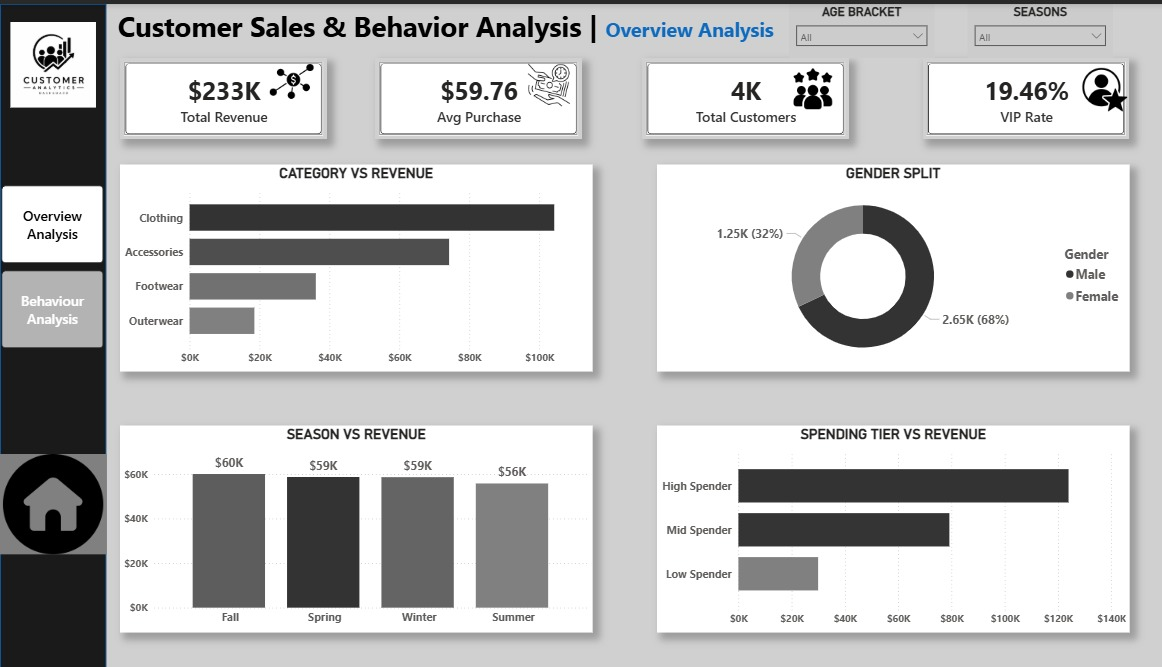

This screenshot's page, from the dashboard's own definition file:
{"tool":"powerbi","page":{"name":"OVERVIEW ANALYSIS","canvas":[1576,900],"ordinal":0},"visuals":[{"type":"shape","box":[0,0,144,900],"z":0},{"type":"textbox","box":[144,0,926,74],"z":1000},{"type":"cardVisual","fields":{"Data":["Sales Table.Total Revenue"]},"box":[162,74,280,110],"z":2000},{"type":"cardVisual","fields":{"Data":["Sales Table.Avg Purchase"]},"box":[508,74,280,110],"z":3000},{"type":"cardVisual","fields":{"Data":["Sales Table.Total Customers"]},"box":[870,74,280,110],"z":4000},{"type":"cardVisual","fields":{"Data":["Sales Table.VIP Rate"]},"box":[1250,74,280,110],"z":5000},{"type":"image","box":[347.7,73.2,95.6,63],"z":6000},{"type":"image","box":[713.6,73.2,61,73.2],"z":7000},{"type":"image","box":[1053.2,83.4,97.6,63],"z":8000},{"type":"image","box":[1463.9,83.4,67.1,65.1],"z":9000},{"type":"clusteredBarChart","title":"CATEGORY VS REVENUE","fields":{"Category":["Sales Table.Category"],"Y":["Sales Table.Total Revenue"]},"box":[162.7,217.6,640.5,280.6],"z":10000},{"type":"donutChart","title":"GENDER SPLIT","fields":{"Category":["Sales Table.Gender"],"Y":["CountNonNull(Sales Table.Customer ID)"]},"box":[890.5,217.6,640.5,280.6],"z":11000},{"type":"clusteredColumnChart","title":"SEASON VS REVENUE","fields":{"Y":["Sales Table.Total Revenue"],"Category":["Sales Table.Season"]},"box":[162.7,571.3,640.5,280.6],"z":12000},{"type":"clusteredBarChart","title":"SPENDING TIER VS REVENUE","fields":{"Y":["Sales Table.Total Revenue"],"Category":["Sales Table.Spending Tiers"]},"box":[890.5,571.3,640.5,280.6],"z":13000},{"type":"slicer","title":"AGE BRACKET","fields":{"Values":["Sales Table.Age Bracket"]},"box":[1069.5,0,197.2,73.2],"z":14000},{"type":"image","box":[6.1,24.4,132.2,115.9],"z":15000},{"type":"pageNavigator","box":[2,246,138.3,221.6],"z":16000},{"type":"slicer","title":"SEASONS","fields":{"Values":["Sales Table.Season"]},"box":[1311.4,0,197.2,73.2],"z":17000},{"type":"image","box":[0,610,144.4,136.2],"z":18000}]}

Visuals, with their boxes in screenshot pixels (x1, y1, x2, y2), scaled from the page's 1576x900 canvas onto the 1162x667 screenshot:
shape: bbox=[0, 0, 106, 666]
textbox: bbox=[106, 0, 789, 55]
cardVisual - Sales Table.Total Revenue: bbox=[119, 55, 326, 136]
cardVisual - Sales Table.Avg Purchase: bbox=[375, 55, 581, 136]
cardVisual - Sales Table.Total Customers: bbox=[641, 55, 848, 136]
cardVisual - Sales Table.VIP Rate: bbox=[922, 55, 1128, 136]
image: bbox=[256, 54, 327, 101]
image: bbox=[526, 54, 571, 108]
image: bbox=[777, 62, 848, 108]
image: bbox=[1079, 62, 1129, 110]
"CATEGORY VS REVENUE" clusteredBarChart: bbox=[120, 161, 592, 369]
"GENDER SPLIT" donutChart: bbox=[657, 161, 1129, 369]
"SEASON VS REVENUE" clusteredColumnChart: bbox=[120, 423, 592, 631]
"SPENDING TIER VS REVENUE" clusteredBarChart: bbox=[657, 423, 1129, 631]
"AGE BRACKET" slicer: bbox=[789, 0, 934, 54]
image: bbox=[4, 18, 102, 104]
pageNavigator: bbox=[1, 182, 103, 347]
"SEASONS" slicer: bbox=[967, 0, 1112, 54]
image: bbox=[0, 452, 106, 553]
